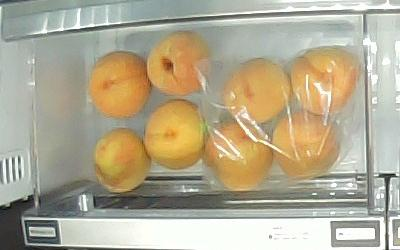peach: (142, 99, 208, 170), (88, 51, 152, 119), (147, 30, 211, 97), (95, 128, 152, 193)
peach_vinyl: (205, 119, 275, 191), (223, 58, 293, 127), (271, 112, 340, 181), (288, 48, 360, 114)
